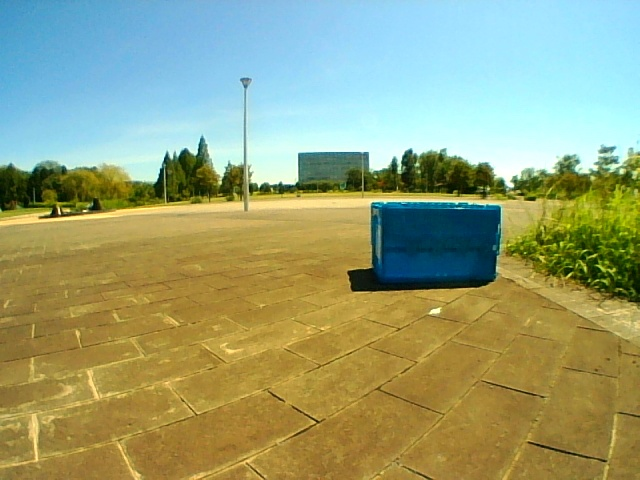blue_box: (372, 202, 497, 279)
